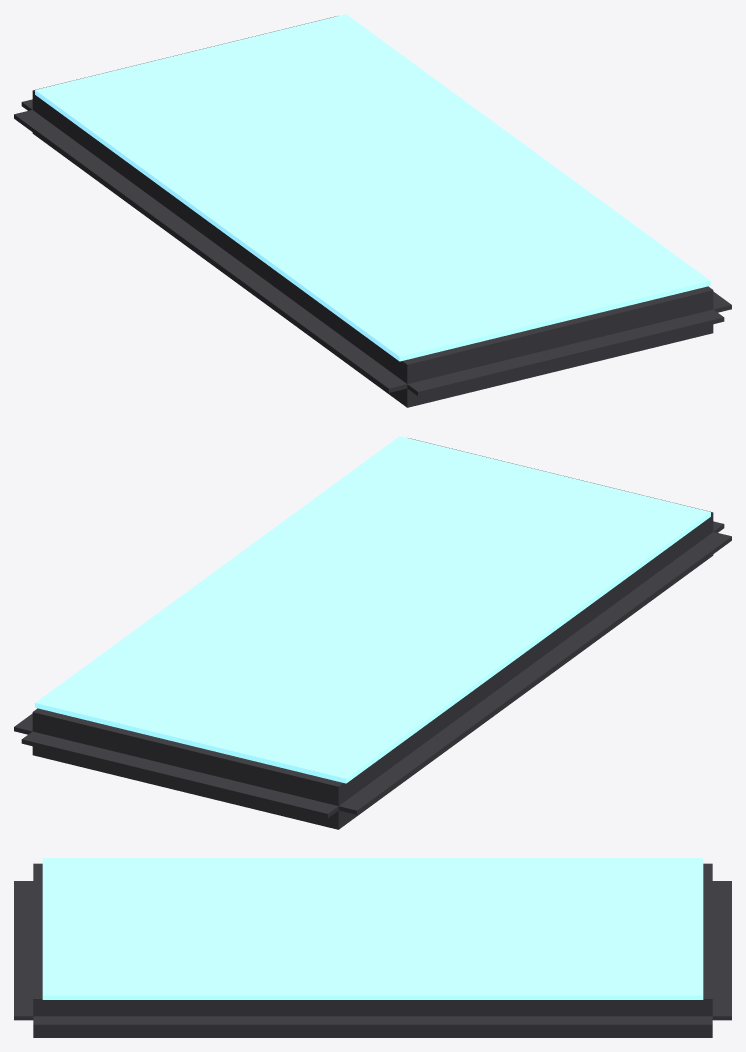
File: phone.glb
3 renders of one model, top to bottom at view 1: azimuth 30°, elevation 25°; view 2: azimuth 150°, elevation 25°; view 3: azimuth 270°, elevation 25°, orthographic. The views are drawn at different scales.
Visible parts, largest first — view 1: phone; view 2: phone; view 3: phone.
Boxes of the visible parts, box(x1,y1,x2,y2) form: phone: box(14, 14, 731, 407); phone: box(14, 436, 731, 829); phone: box(14, 858, 731, 1037).
Bounding box in the file's own units: 0.075 × 0.01 × 0.15.
